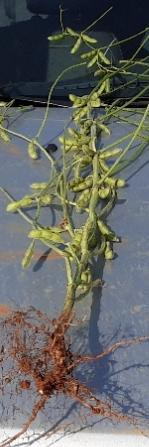soja: (21, 231, 65, 245), (97, 216, 116, 240), (96, 174, 126, 189), (17, 246, 36, 269), (97, 146, 124, 162), (7, 198, 32, 214), (92, 118, 113, 137), (25, 141, 42, 163), (76, 190, 94, 209), (55, 138, 86, 149), (73, 178, 96, 192), (79, 29, 99, 45), (72, 35, 85, 57), (81, 230, 90, 257), (99, 49, 113, 66), (74, 106, 88, 121), (44, 33, 67, 42), (29, 182, 49, 192), (69, 128, 85, 140), (87, 55, 100, 69), (81, 49, 97, 60), (99, 187, 109, 204), (90, 89, 101, 104), (68, 98, 87, 106), (92, 69, 108, 78), (106, 80, 113, 94), (101, 165, 110, 173)
